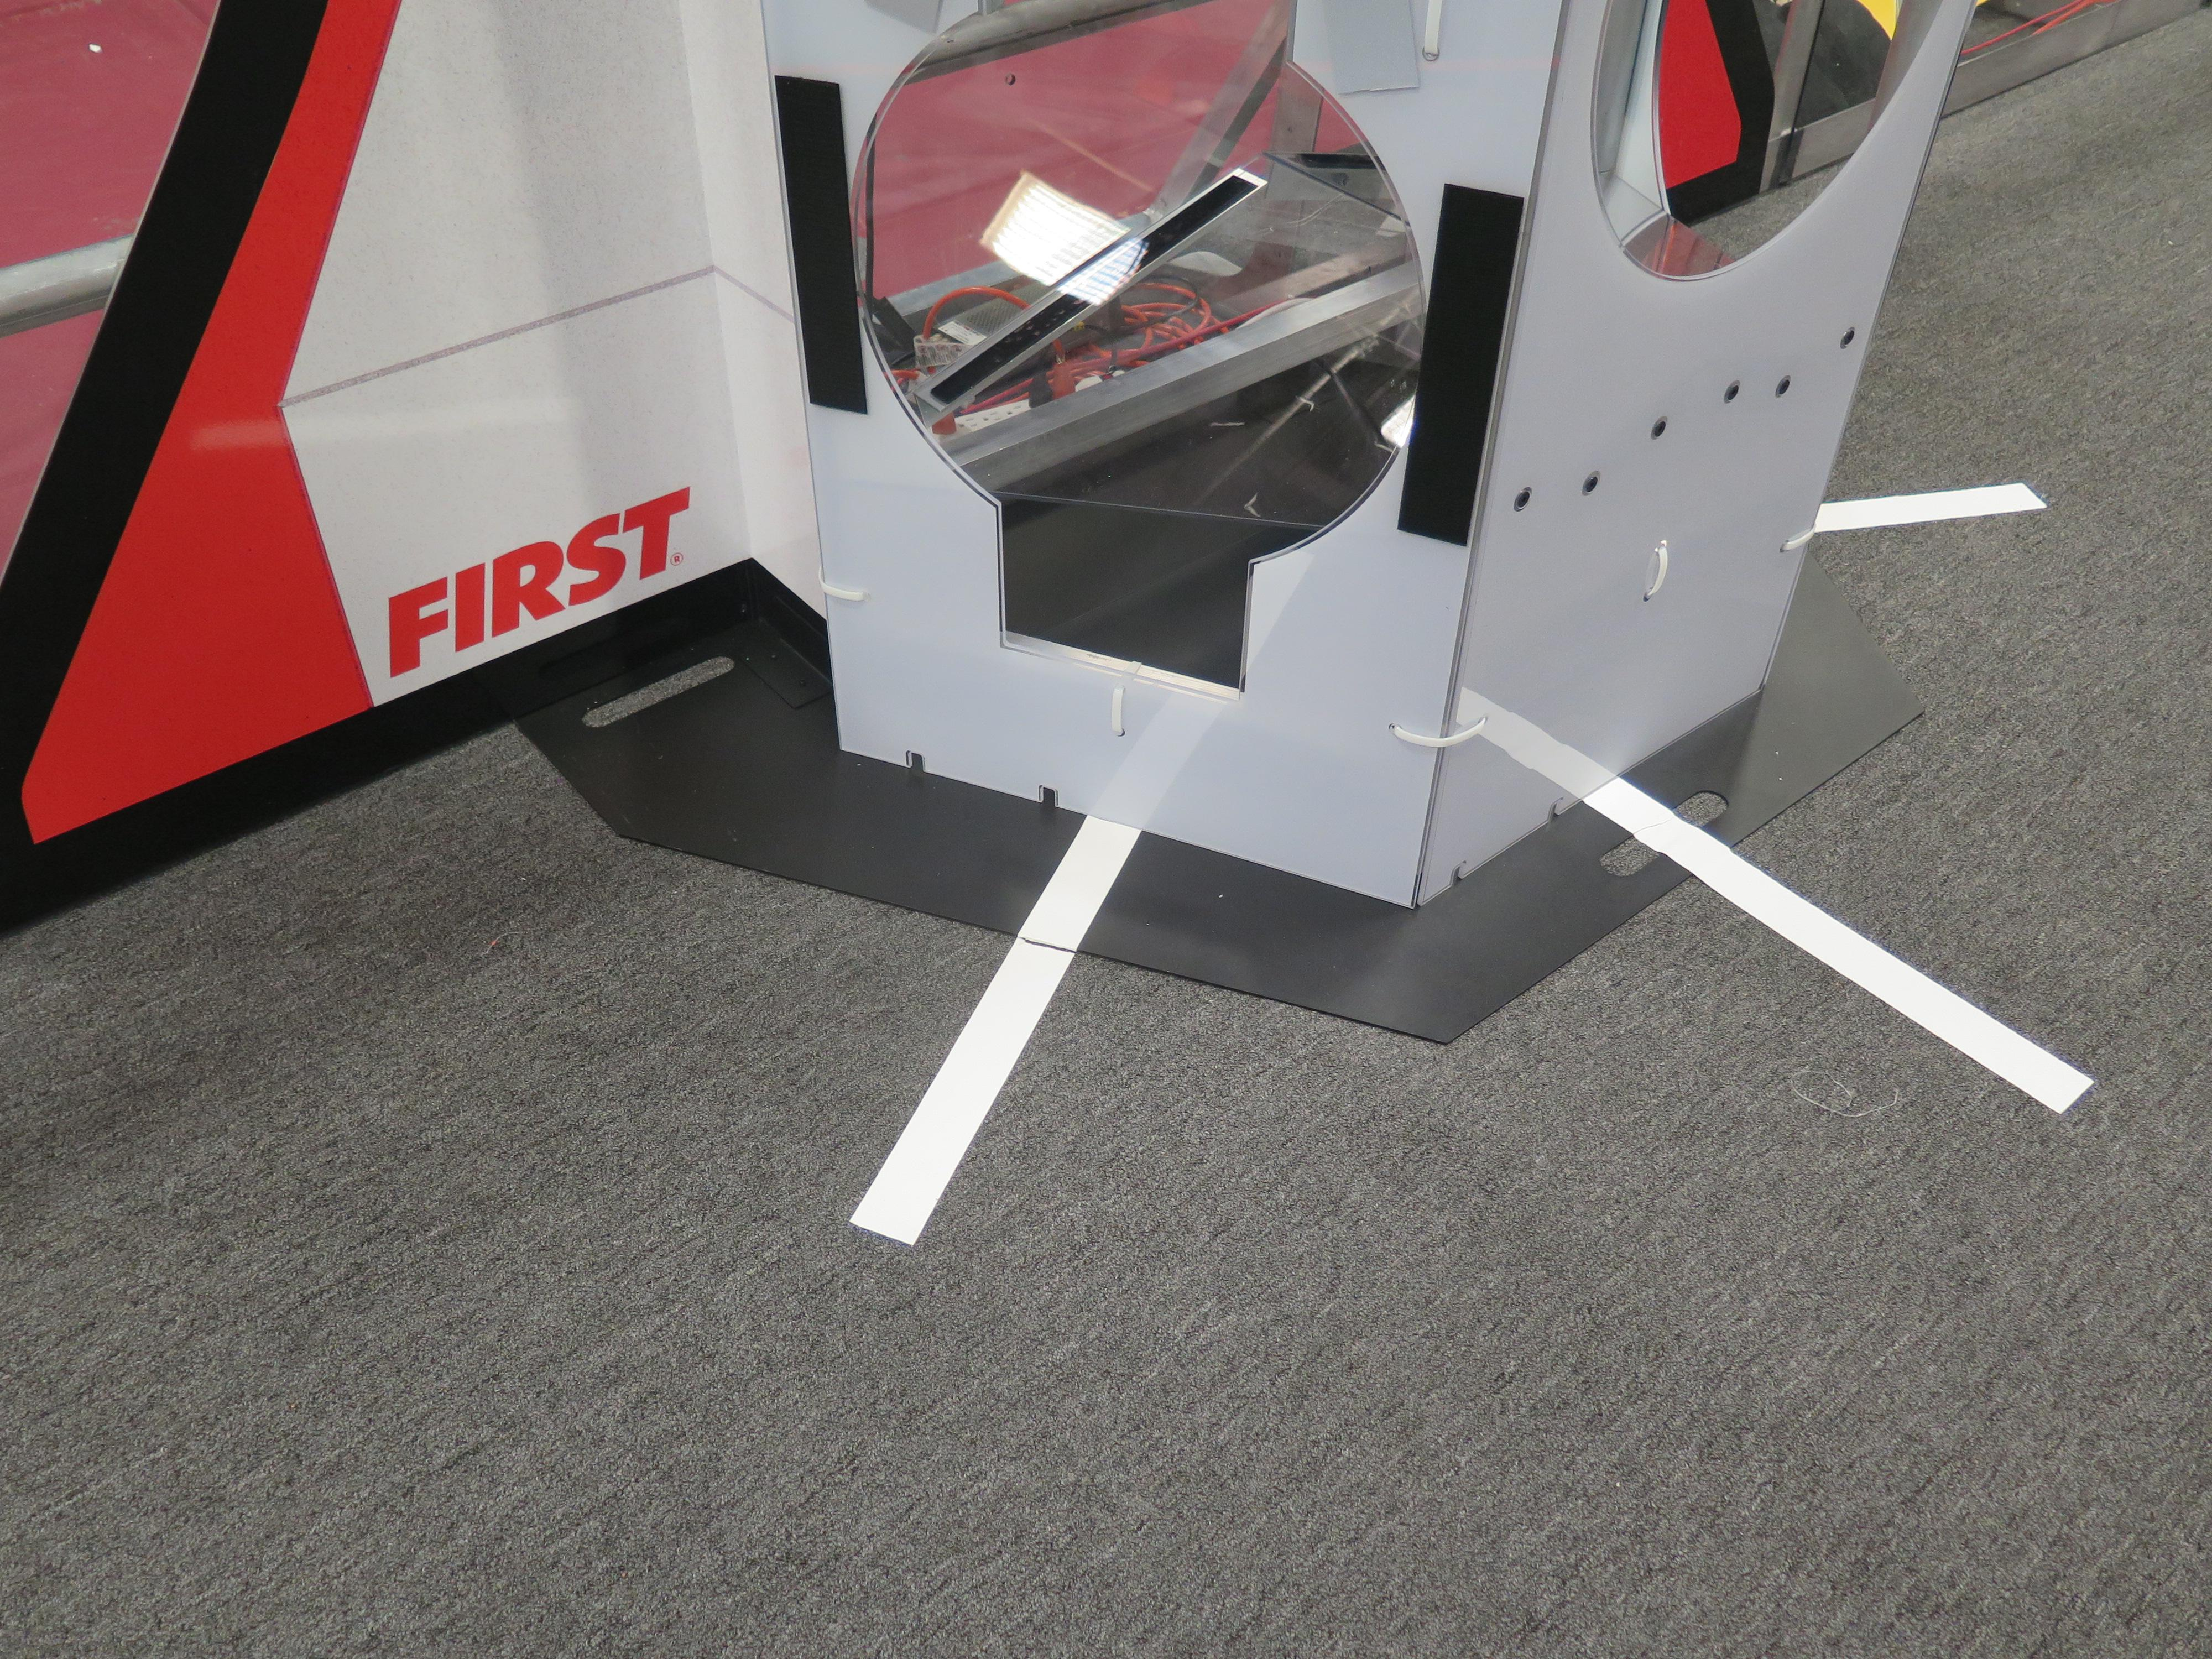Tape: (1318, 0, 1426, 105), (846, 0, 958, 35)
